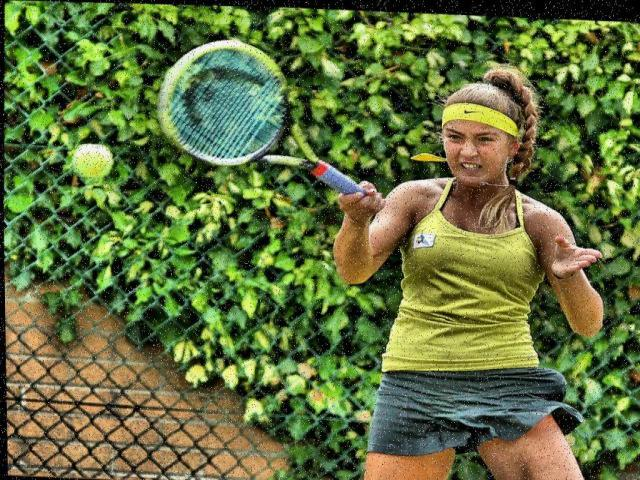tennis-ball: (71, 143, 114, 181)
